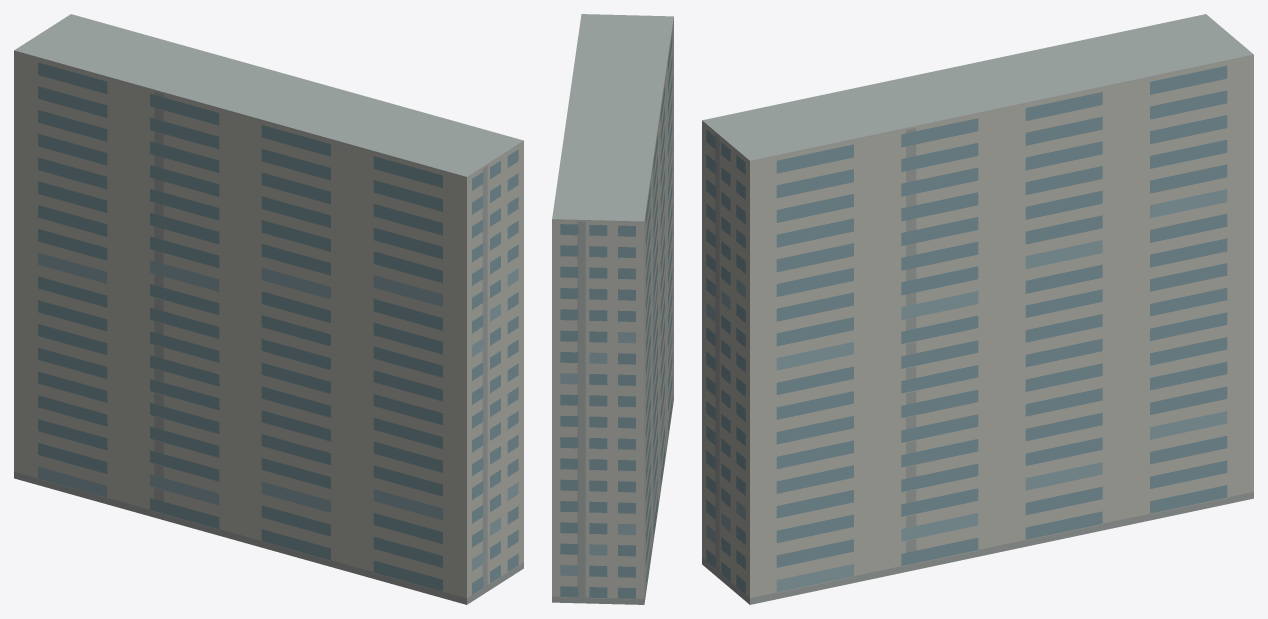
Rendered from residential-e22a4064-481e-485d-8621-5e81a71caf45.glb.
The picture shows the model from 3 angles, left to right: view 1: azimuth 30°, elevation 25°; view 2: azimuth 150°, elevation 25°; view 3: azimuth 270°, elevation 25°; orthographic projection. The views are drawn at different scales.
Parts seen in each view (by area): view 1: residential-e22a4064-481e-485d-8621-5e81a71caf45.tmp; view 2: residential-e22a4064-481e-485d-8621-5e81a71caf45.tmp; view 3: residential-e22a4064-481e-485d-8621-5e81a71caf45.tmp.
Boxes of the visible parts, x1,y1,x2,y2 form: residential-e22a4064-481e-485d-8621-5e81a71caf45.tmp: (14,14,523,604); residential-e22a4064-481e-485d-8621-5e81a71caf45.tmp: (552,14,673,604); residential-e22a4064-481e-485d-8621-5e81a71caf45.tmp: (702,14,1253,604).
Bounding box in the file's own units: 36.17 × 51 × 57.44.
